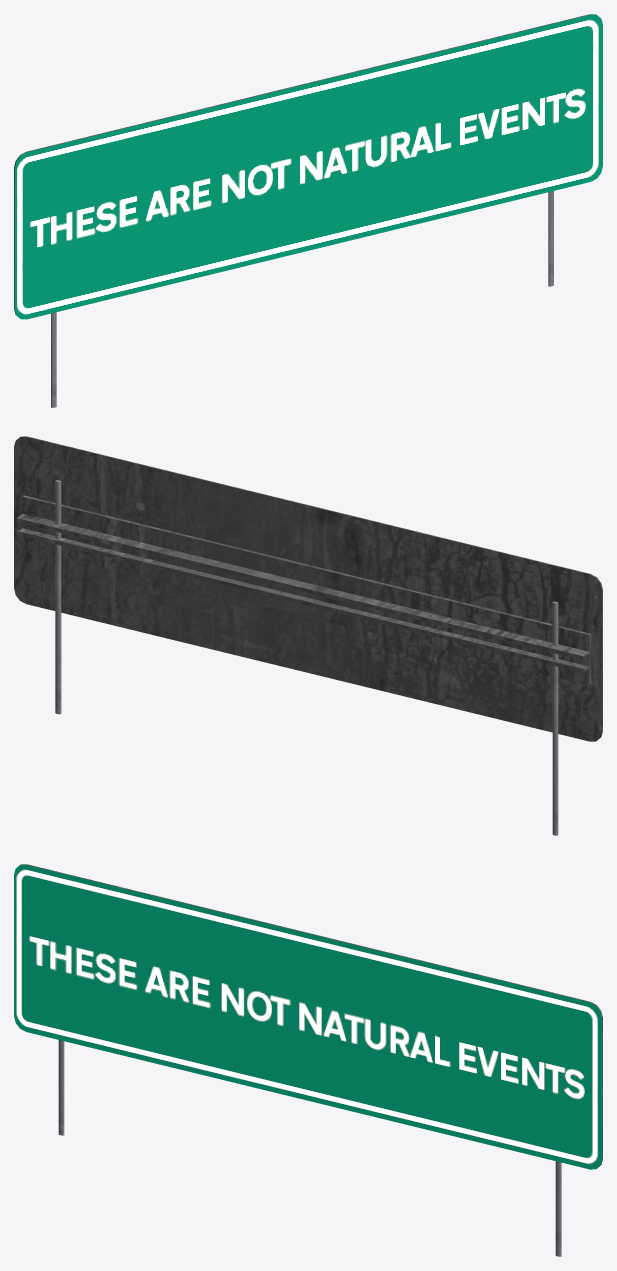
File: not-natural-events.gltf
3 views of the same model, one above another, from view 1: azimuth 30°, elevation 25°; view 2: azimuth 150°, elevation 25°; view 3: azimuth 330°, elevation 25° (orthographic).
Visible parts, largest first — view 1: Sign_S_1.5_.014, PoleA_50.8_2800mm_A_.026, PoleA_50.8_2800mm_A_.027; view 2: Sign_S_1.5_.014, PoleA_50.8_2800mm_A_.027, PoleA_50.8_2800mm_A_.026; view 3: Sign_S_1.5_.014, PoleA_50.8_2800mm_A_.026, PoleA_50.8_2800mm_A_.027.
Part boxes in pixels (<box>): Sign_S_1.5_.014: <box>14,14,602,319</box>; PoleA_50.8_2800mm_A_.026: <box>51,312,56,407</box>; PoleA_50.8_2800mm_A_.027: <box>548,191,553,286</box>; Sign_S_1.5_.014: <box>14,436,602,741</box>; PoleA_50.8_2800mm_A_.027: <box>55,480,61,714</box>; PoleA_50.8_2800mm_A_.026: <box>552,601,558,835</box>; Sign_S_1.5_.014: <box>14,864,602,1169</box>; PoleA_50.8_2800mm_A_.026: <box>58,1040,64,1135</box>; PoleA_50.8_2800mm_A_.027: <box>555,1161,561,1256</box>.
Size of the model in its own units: 3.62 by 1.56 by 0.0926.
Materials: 8 (8 with a texture image).
